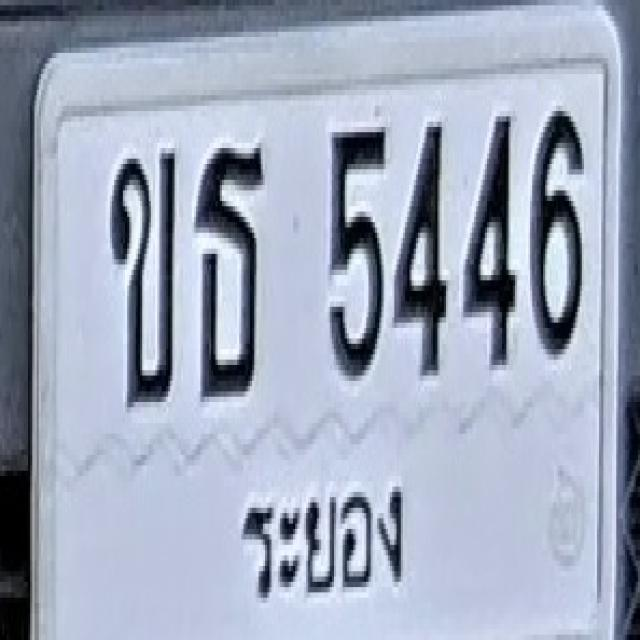4: (394, 117, 446, 370), (463, 109, 515, 362)
5: (328, 122, 386, 376)
6: (531, 103, 583, 352)
A02: (108, 146, 176, 404)
A24: (195, 138, 264, 396)
RYG: (233, 458, 410, 613)
